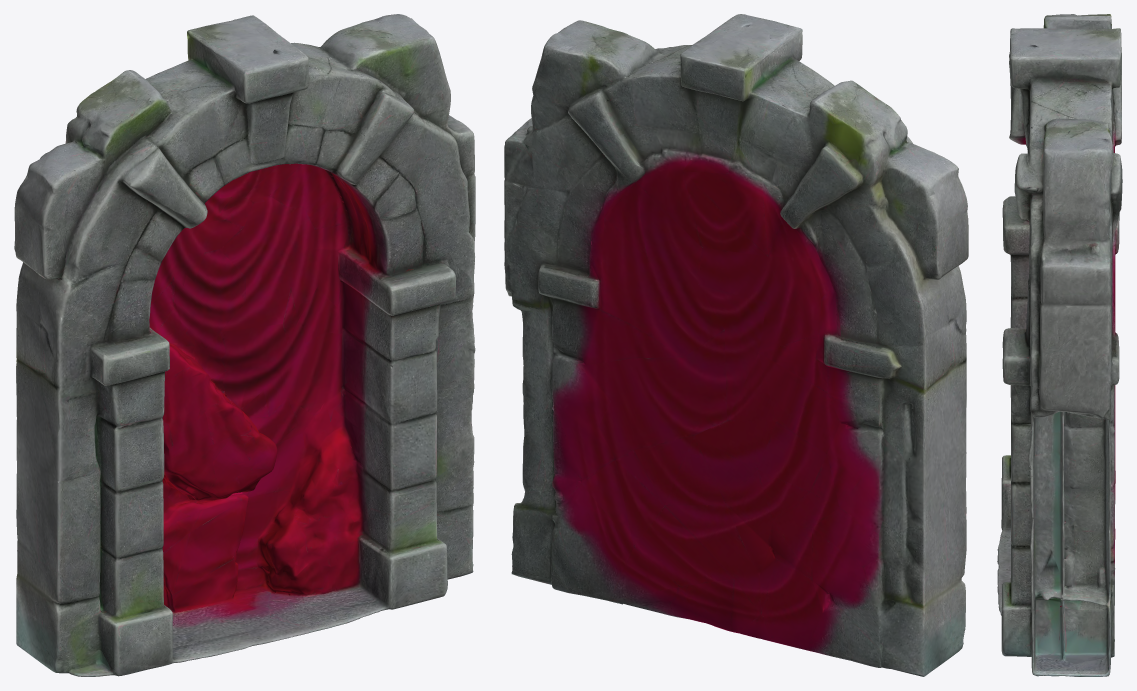
Rendered from delve_entrance_2.glb.
The picture shows the model from 3 angles, left to right: view 1: azimuth 30°, elevation 25°; view 2: azimuth 150°, elevation 25°; view 3: azimuth 270°, elevation 25°; orthographic projection. The views are drawn at different scales.
Size of the model in its own units: 1.58 by 2.01 by 0.4203.
Materials: 1 (1 with a texture image).
